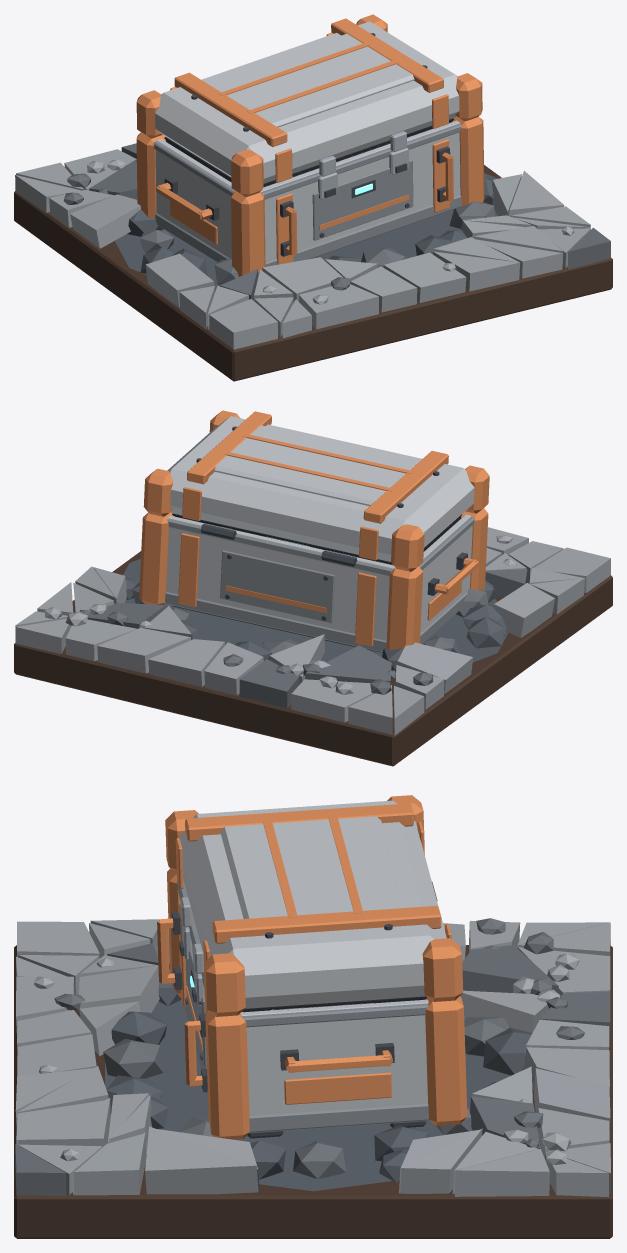
Rendered from supply-crate.glb.
3 views of the same model, one above another, from view 1: azimuth 30°, elevation 25°; view 2: azimuth 150°, elevation 25°; view 3: azimuth 270°, elevation 25° (orthographic). The views are drawn at different scales.
Visible parts, largest first — view 1: Base, Lid, Crate_Body; view 2: Base, Lid, Crate_Body; view 3: Base, Lid, Crate_Body.
Part boxes in pixels (x1,y1,x2,y2): Base: (14, 143, 612, 381); Lid: (136, 14, 482, 197); Crate_Body: (136, 116, 484, 276); Base: (14, 527, 612, 766); Lid: (143, 410, 489, 571); Crate_Body: (139, 508, 488, 652); Base: (14, 918, 612, 1238); Lid: (165, 795, 463, 1016); Crate_Body: (157, 868, 467, 1139).
Size of the model in its own units: 2 by 0.9248 by 2.
